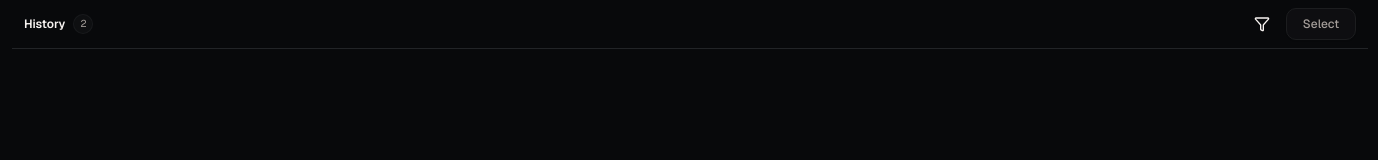
PersistentImageGallery › bulk delete actions › calls bulkDeleteMutation with all selected image IDs
Later steps or results of the test are not shown.
// Enter selection mode
Click the button with test id "toggle-selection" at x=1321, y=24, box [1286,8,1356,40]
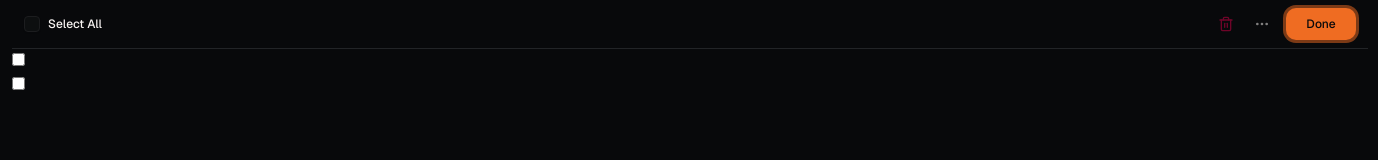
// Select both items
Click the 1st element with test id "gallery-thumbnail" at x=18, y=60, box [12,53,25,66]
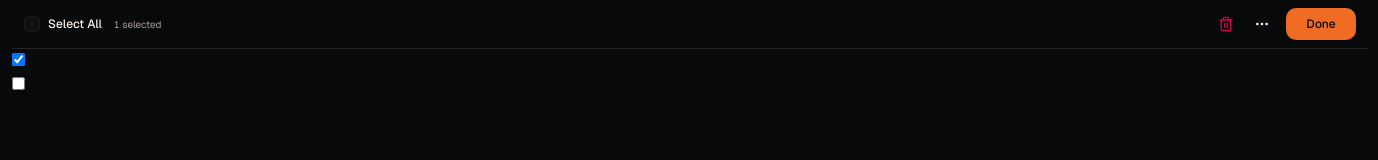
Click the 2nd element with test id "gallery-thumbnail" at x=18, y=84, box [12,77,25,90]
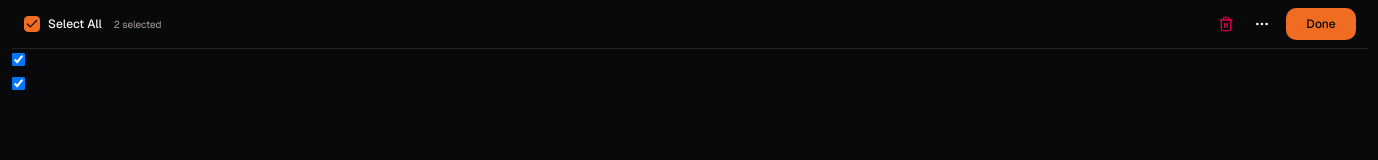
Expected: the text "2 selected" is shown, [114,16,162,32]
